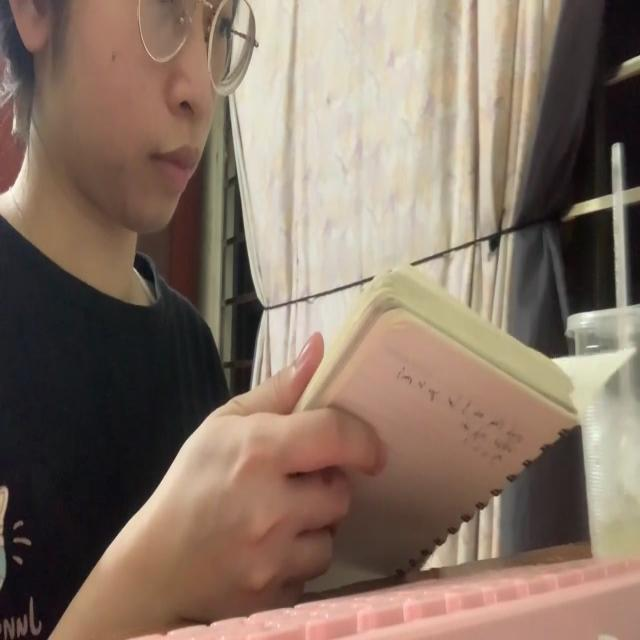book: (268, 254, 636, 582)
student: (0, 0, 385, 640)
